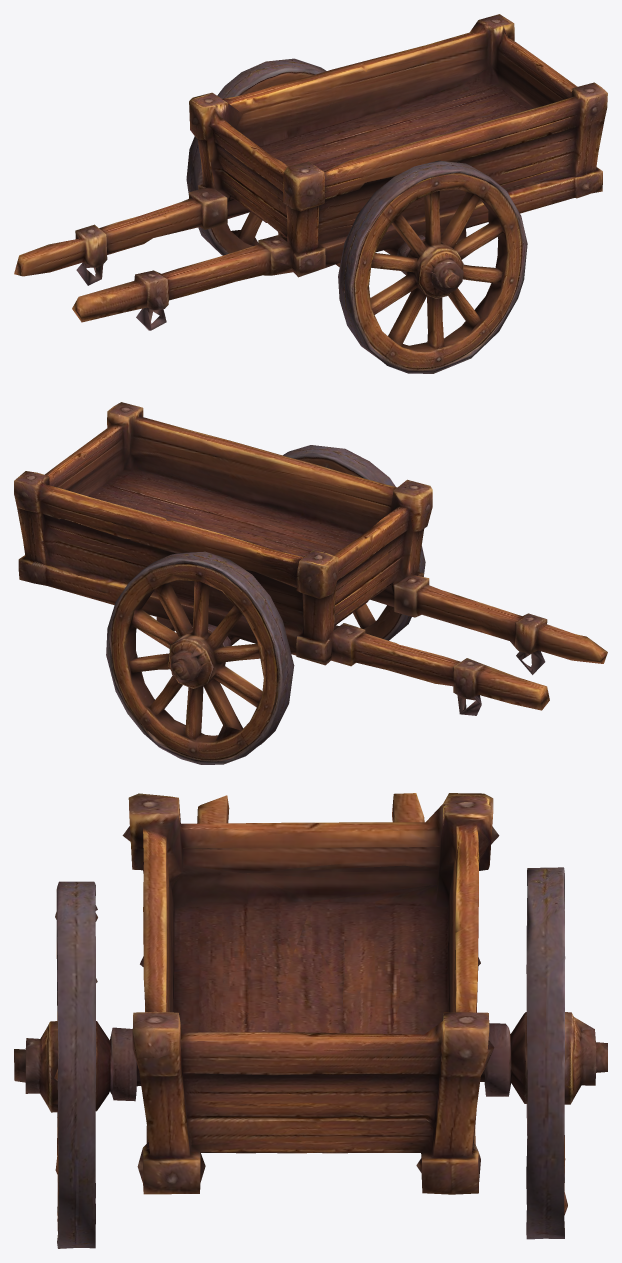
The model's file is gen_crate.glb.
3 renders of one model, top to bottom at view 1: azimuth 30°, elevation 25°; view 2: azimuth 150°, elevation 25°; view 3: azimuth 270°, elevation 25°, orthographic. The views are drawn at different scales.
Visible parts, largest first — view 1: tripo_node_6d2caeb8-e522-46d6-af09-d5c92f6bc74a; view 2: tripo_node_6d2caeb8-e522-46d6-af09-d5c92f6bc74a; view 3: tripo_node_6d2caeb8-e522-46d6-af09-d5c92f6bc74a.
Boxes of the visible parts, box(x1,y1,x2,y2) form: tripo_node_6d2caeb8-e522-46d6-af09-d5c92f6bc74a: box(14, 14, 607, 373); tripo_node_6d2caeb8-e522-46d6-af09-d5c92f6bc74a: box(14, 402, 607, 764); tripo_node_6d2caeb8-e522-46d6-af09-d5c92f6bc74a: box(14, 793, 607, 1248).
Size of the model in its own units: 0.9824 by 0.3987 by 0.5959.
Materials: 1 (1 with a texture image).
